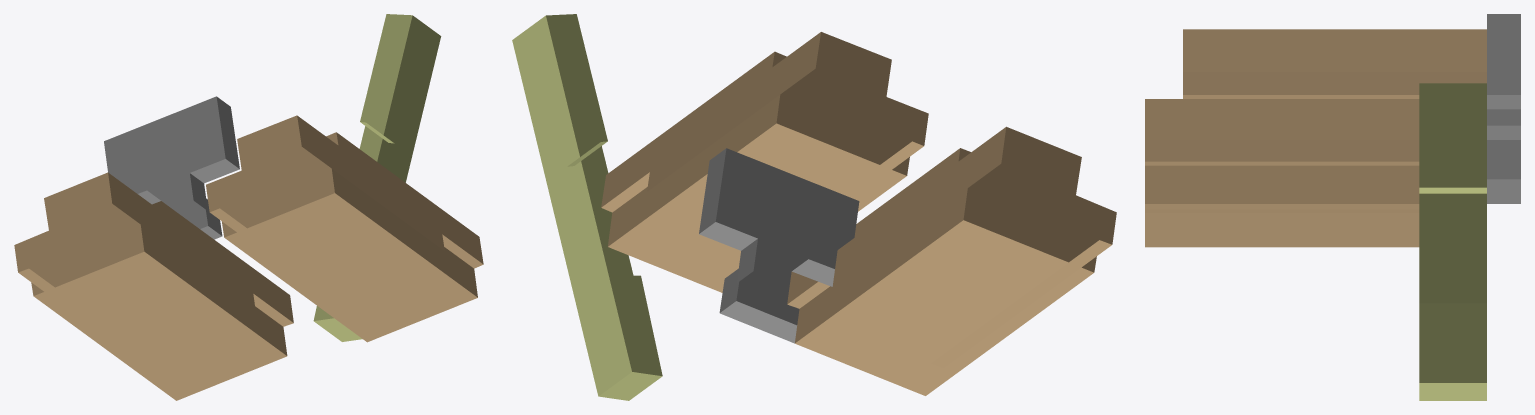
3 renders of one model, left to right at view 1: azimuth 30°, elevation 25°; view 2: azimuth 150°, elevation 25°; view 3: azimuth 270°, elevation 25°, orthographic. The views are drawn at different scales.
Parts seen in each view (by area): view 1: 0_1_2_0_3_1_2_3_1; view 2: 0_1_2_0_3_1_2_3_1; view 3: 0_1_2_0_3_1_2_3_1.
Part boxes in pixels (bbox=[...]): 0_1_2_0_3_1_2_3_1: bbox=[14, 14, 483, 400]; 0_1_2_0_3_1_2_3_1: bbox=[512, 14, 1116, 400]; 0_1_2_0_3_1_2_3_1: bbox=[1145, 14, 1520, 400].
Size of the model in its own units: 46.49 by 33.78 by 33.36.
